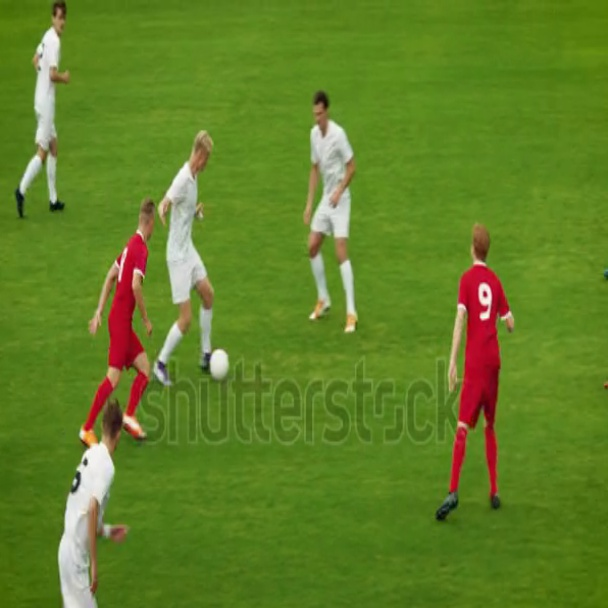ball: (204, 344, 234, 390)
